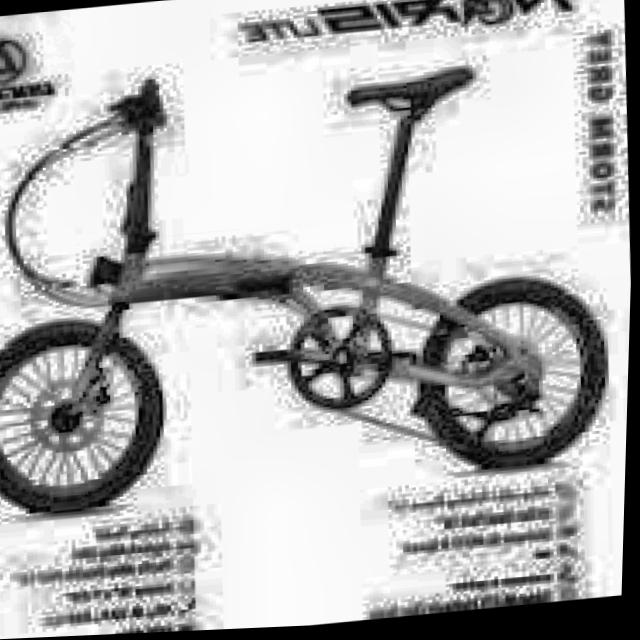bike: (0, 29, 628, 531)
